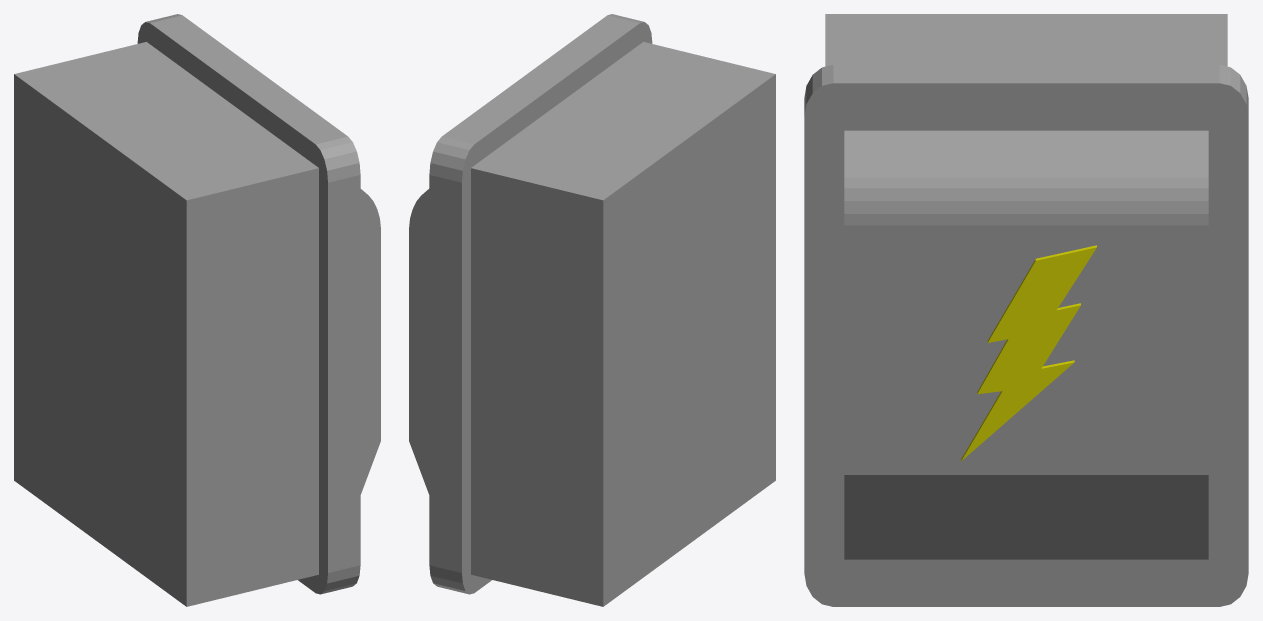
File: CajaFusibles.fbx
3 renders of one model, left to right at view 1: azimuth 30°, elevation 25°; view 2: azimuth 150°, elevation 25°; view 3: azimuth 270°, elevation 25°, orthographic. The views are drawn at different scales.
Visible parts, largest first — view 1: Caja; view 2: Caja; view 3: Caja, Rayo.
Boxes of the visible parts, <box> form: Caja: <box>14,14,380,606</box>; Caja: <box>409,14,775,606</box>; Caja: <box>804,14,1248,606</box>; Rayo: <box>961,245,1096,461</box>.
Bounding box in the file's own units: 1.25 × 2.6 × 2.
